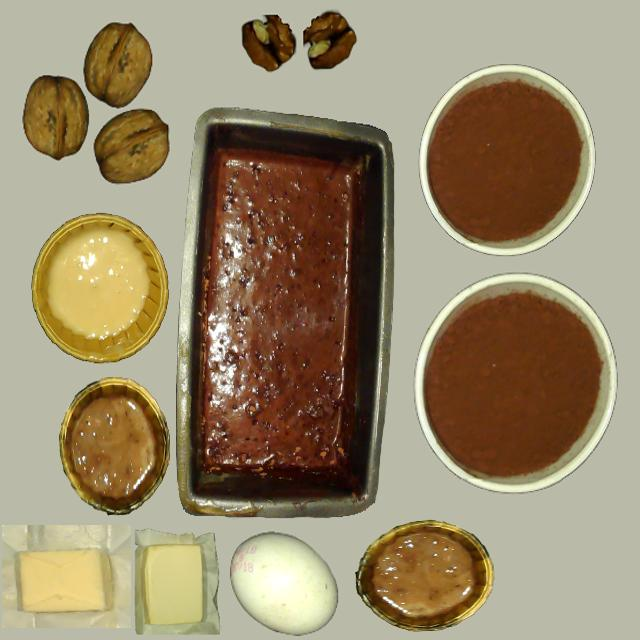Cocoa: (425, 287, 608, 483), (427, 76, 587, 246)
Walnut: (84, 22, 152, 106), (93, 108, 168, 183), (22, 76, 88, 158)
